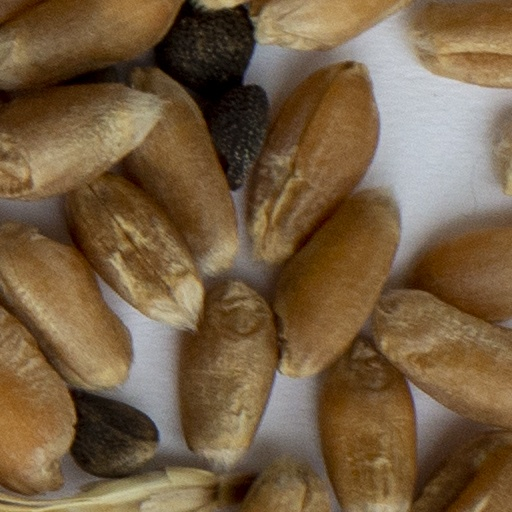Convolvulus-poly: (159, 7, 252, 100), (72, 393, 156, 476), (208, 85, 266, 191)
